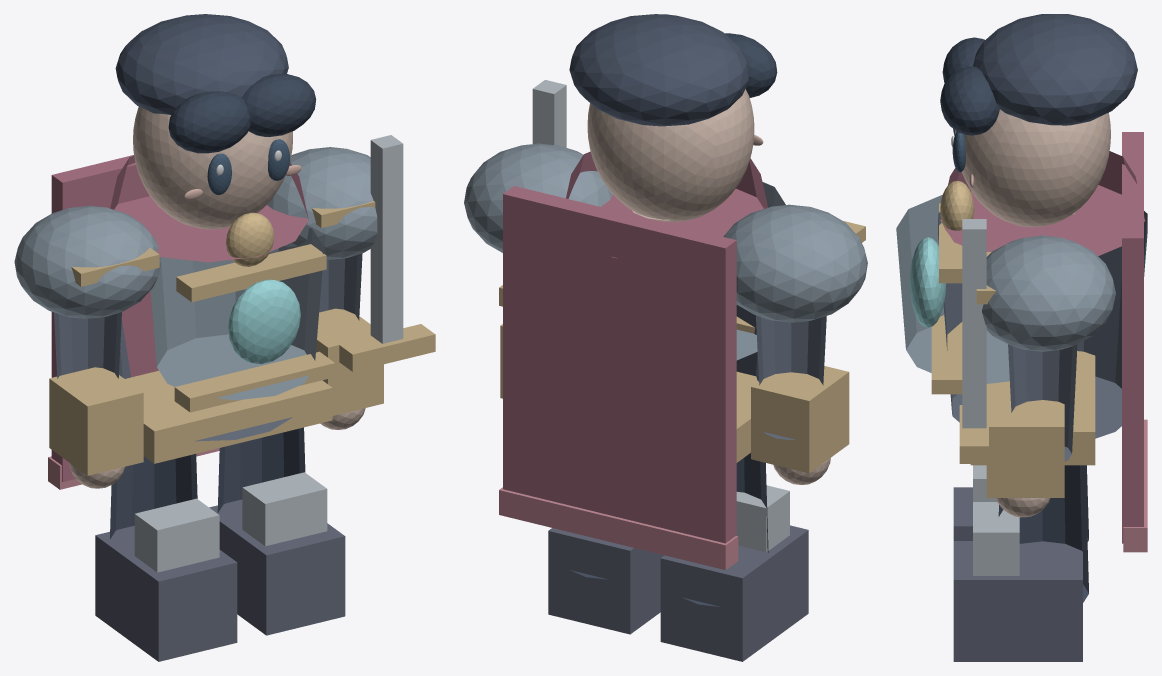
The model's file is hero.glb.
3 views of the same model, side by side, from view 1: azimuth 30°, elevation 25°; view 2: azimuth 150°, elevation 25°; view 3: azimuth 270°, elevation 25° (orthographic). The views are drawn at different scales.
Parts seen in each view (by area): view 1: boot0, shoulder0, hair, breastplate, boot1, face, belt, gauntlet0, shoulder1, blade_detail, cape, collar (+20 smaller); view 2: cape, hair, face, boot0, shoulder0, boot1, gauntlet0, shoulder1, cape_hem, arm0, collar, knee0 (+7 smaller); view 3: hair, boot1, face, shoulder1, cape, gauntlet1, collar, chest, blade_detail, breastplate, arm1, leg1 (+14 smaller).
Boxes of the visible parts, x1,y1,x2,y2 form: boot0: (95, 525, 237, 661); shoulder0: (14, 205, 161, 318); hair: (115, 14, 288, 114); breastplate: (150, 227, 324, 400); boot1: (209, 499, 345, 635); face: (133, 107, 292, 229); belt: (125, 370, 332, 463); gauntlet0: (49, 367, 143, 475); shoulder1: (267, 147, 377, 259); blade_detail: (370, 135, 403, 343); cape: (51, 155, 158, 482); collar: (110, 155, 308, 262); cape: (503, 186, 736, 543); hair: (569, 14, 749, 126); face: (587, 89, 754, 221); boot0: (660, 525, 808, 661); shoulder0: (723, 204, 867, 322); boot1: (548, 528, 663, 634); gauntlet0: (751, 366, 849, 473); shoulder1: (464, 143, 612, 252); cape_hem: (499, 487, 738, 570); arm0: (756, 315, 826, 440); collar: (566, 151, 767, 258); knee0: (736, 485, 789, 552); hair: (973, 14, 1137, 125); boot1: (953, 541, 1082, 661); face: (955, 109, 1110, 227); shoulder1: (982, 235, 1115, 351); cape: (1122, 132, 1143, 543); gauntlet1: (986, 399, 1064, 497); collar: (940, 151, 1145, 255); chest: (938, 211, 1147, 438); blade_detail: (962, 219, 986, 428); breastplate: (896, 195, 1009, 383); arm1: (1008, 344, 1077, 461); leg1: (998, 465, 1088, 602).
Bounding box in the file's own units: 1.79 × 2.66 × 1.03.
